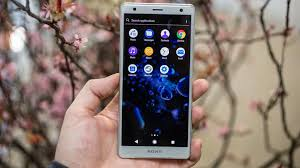sony: (119, 1, 196, 162)
